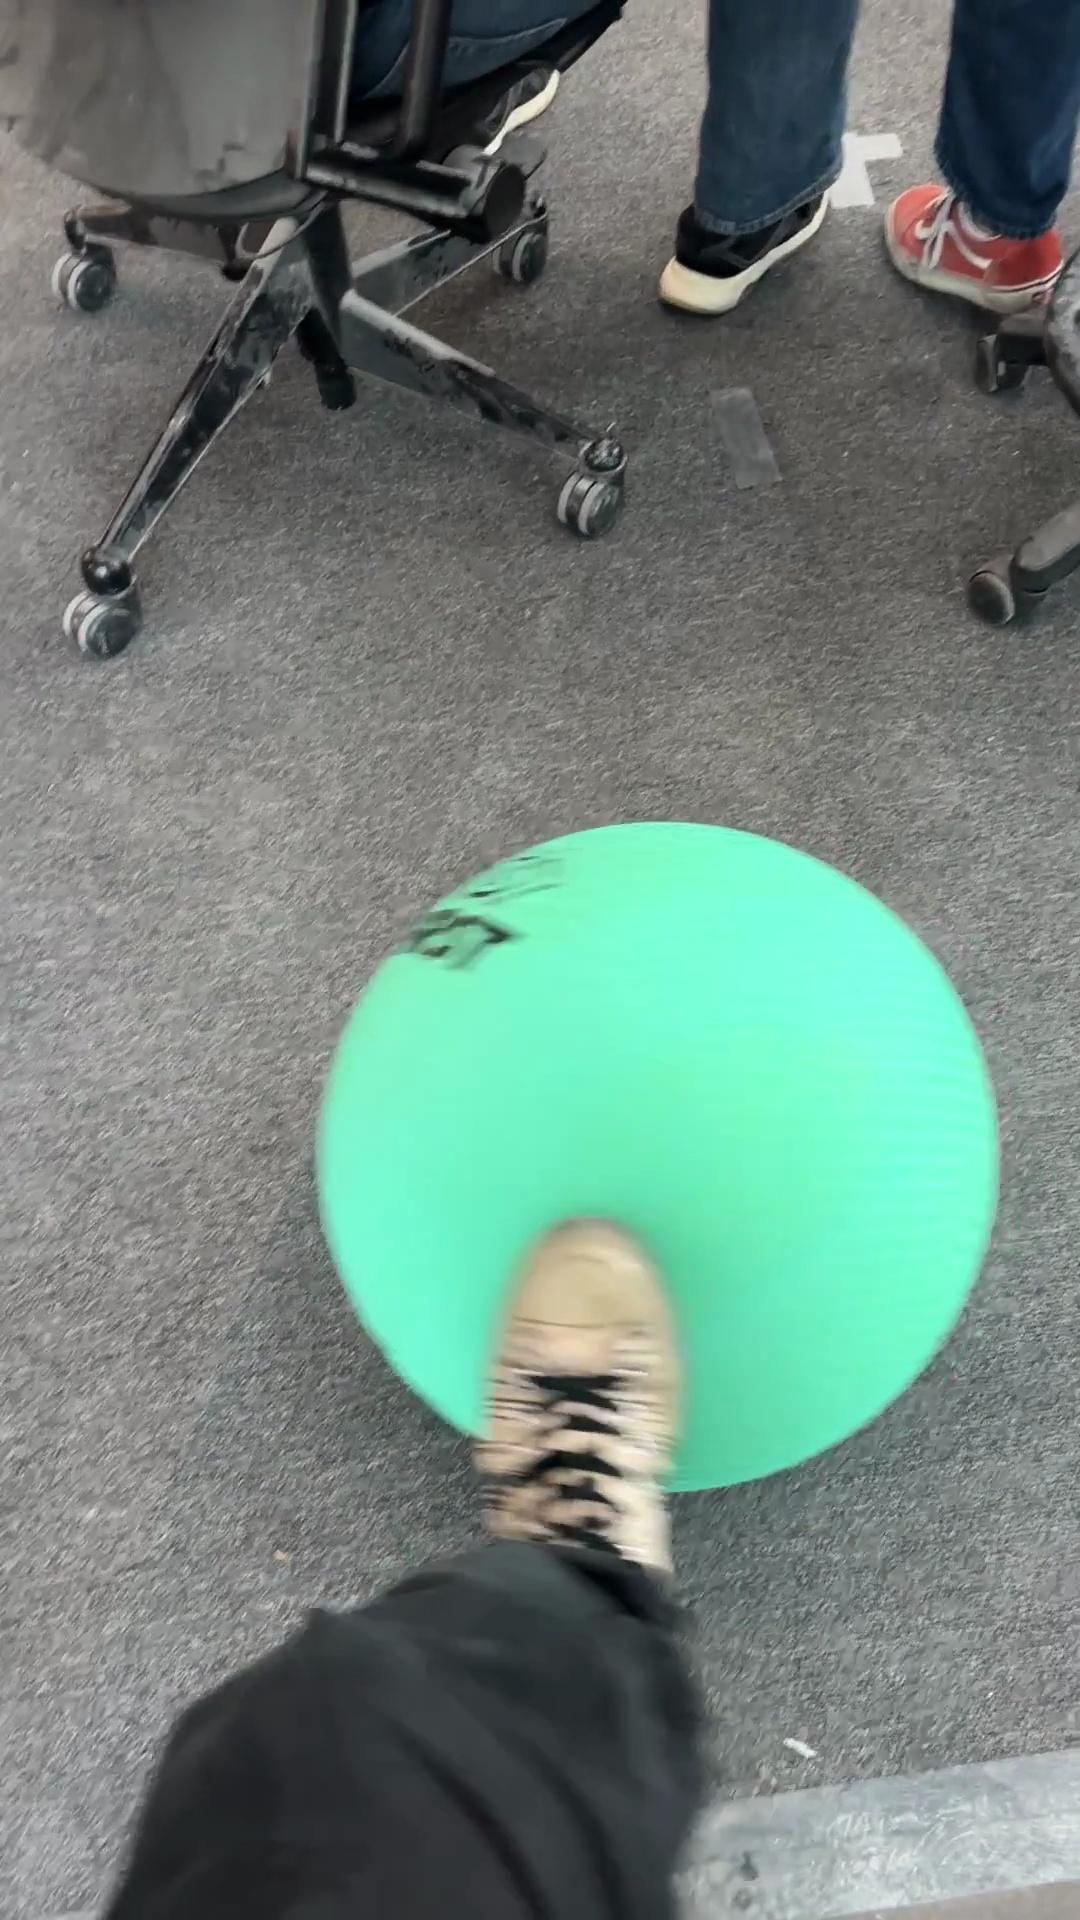ALGAE: (313, 816, 1004, 1494)
